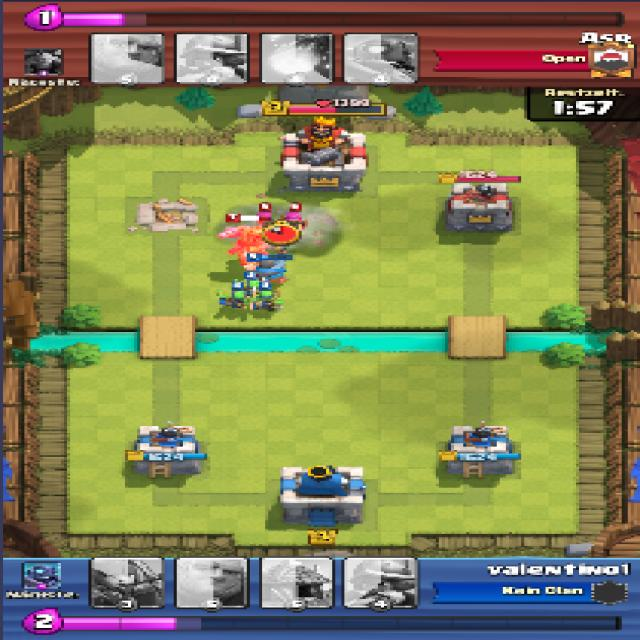Enemy-Archer: (279, 212, 303, 230), (254, 212, 276, 228)
Enemy-Prince: (218, 226, 284, 265)
Player-Knight: (248, 256, 292, 284)
Player-SpearGoblin: (252, 291, 286, 312), (216, 290, 249, 308), (241, 278, 268, 294)
